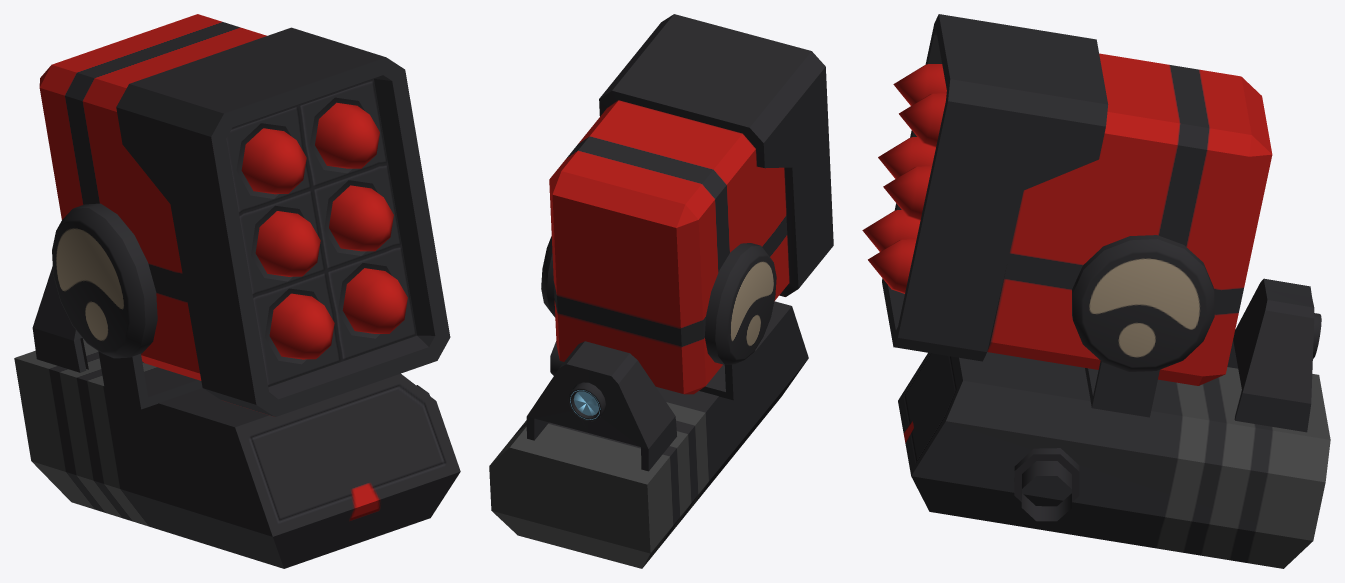
File: Weapon_daodan_R.FBX
3 views of the same model, side by side, from view 1: azimuth 30°, elevation 25°; view 2: azimuth 150°, elevation 25°; view 3: azimuth 270°, elevation 25° (orthographic). The views are drawn at different scales.
Parts seen in each view (by area): view 1: Weapon_daodan_R; view 2: Weapon_daodan_R; view 3: Weapon_daodan_R.
Part boxes in pixels (left/top/right/bottom): Weapon_daodan_R: left=14, top=14, right=460, bottom=568; Weapon_daodan_R: left=489, top=14, right=833, bottom=568; Weapon_daodan_R: left=862, top=14, right=1330, bottom=568.
Bounding box in the file's own units: 1.09 × 1.92 × 1.65.
Materials: 1 (1 with a texture image).
